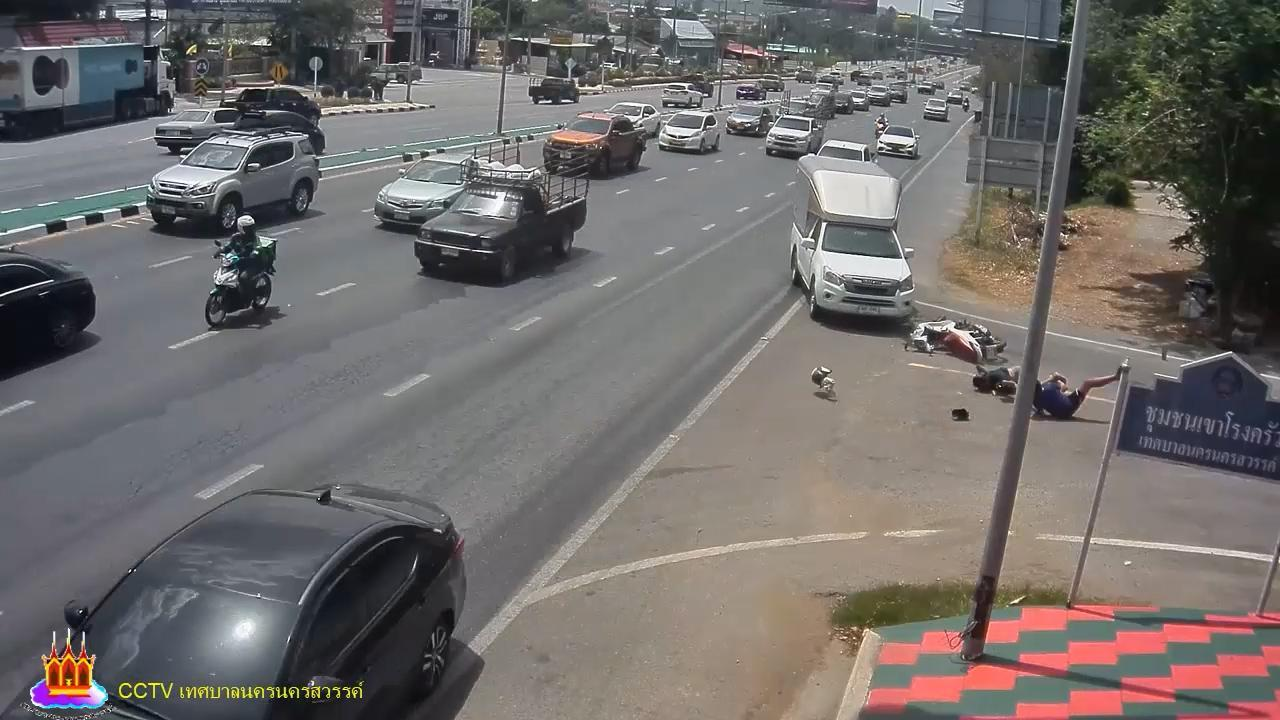accident: (1031, 358, 1123, 421), (965, 362, 1021, 394)
